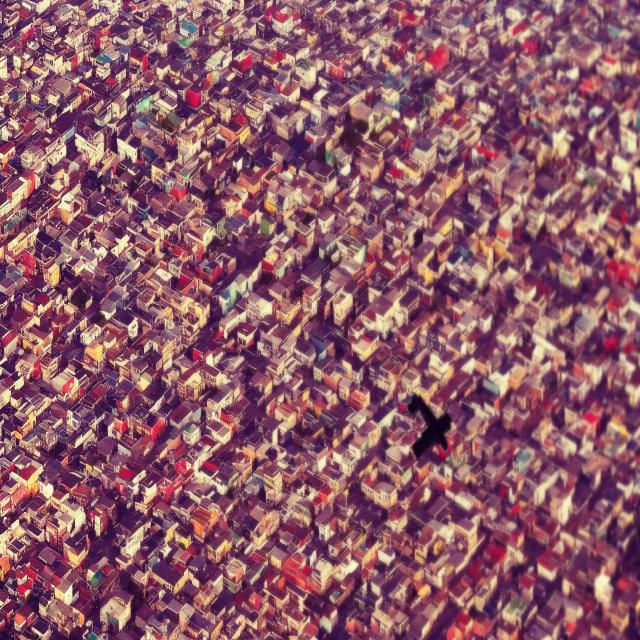airplane: (407, 392, 452, 460)
